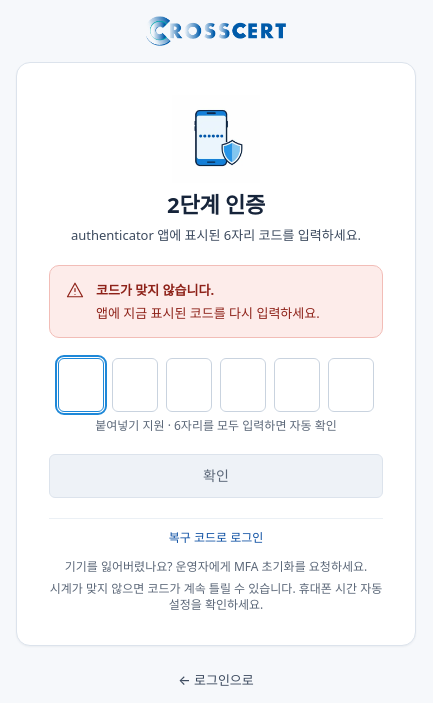
Test: MfaChallenge V3 › 모드를 바꾸면 경고가 사라진다
Check: the message "코드가 맞지 않습니다. 앱에 지금 표시된 코드를 다시 입력하세요." is shown, box x1=49 y1=265 x2=383 y2=338
Click the button "복구 코드로 로그인": x=216, y=538 x1=158 y1=523 x2=274 y2=553
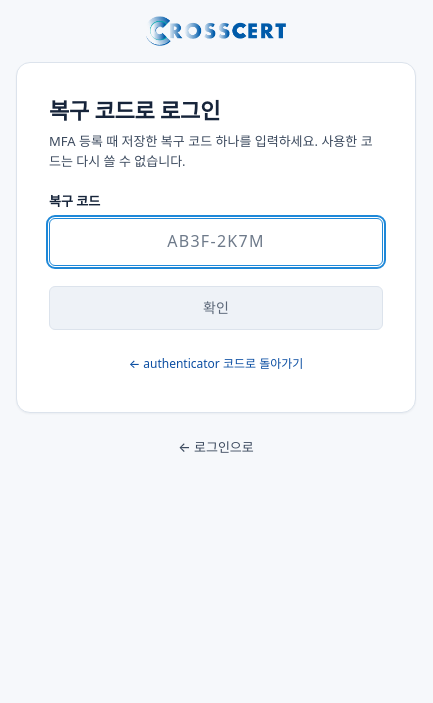
Check: the message "코드가 맞지 않습니다. 앱에 지금 표시된 코드를 다시 입력하세요." is gone
